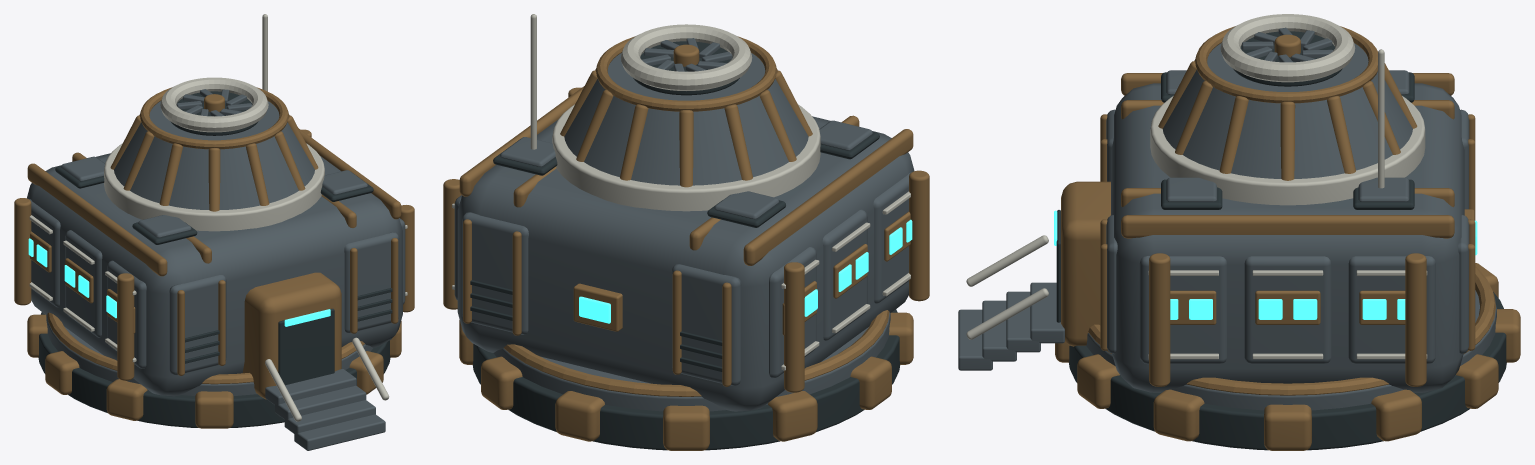
Rendered from abri.glb.
The picture shows the model from 3 angles, left to right: view 1: azimuth 30°, elevation 25°; view 2: azimuth 150°, elevation 25°; view 3: azimuth 270°, elevation 25°; orthographic projection. The views are drawn at different scales.
Visible parts, largest first — view 1: Volume habitable, Dôme central, Sas, Embase du dôme, Semelle démontable, Panneau de façade, Panneau de façade.001, Porte, Couronne de ventilation, Nervure de toiture, Plaque latérale.001, Collier du dôme (+38 smaller); view 2: Volume habitable, Dôme central, Semelle démontable, Embase du dôme, Panneau de façade.002, Panneau de façade.003, Couronne de ventilation, Châssis, Nervure de toiture, Ceinture du châssis, Plaque latérale.001, Collier du dôme (+38 smaller); view 3: Volume habitable, Dôme central, Semelle démontable, Embase du dôme, Nervure de toiture.003, Plaque latérale.004, Sas, Plaque latérale.005, Plaque latérale.003, Couronne de ventilation, Châssis, Ceinture du châssis (+38 smaller).
Part boxes in pixels (x1,y1,x2,y2): Volume habitable: (27, 153, 402, 396); Dôme central: (114, 101, 314, 209); Sas: (242, 272, 341, 399); Embase du dôme: (104, 143, 324, 231); Semelle démontable: (38, 312, 390, 427); Panneau de façade: (169, 275, 226, 375); Panneau de façade.001: (344, 232, 399, 332); Porte: (278, 308, 334, 385); Couronne de ventilation: (160, 77, 268, 132); Nervure de toiture: (27, 163, 167, 276); Plaque latérale.001: (65, 230, 102, 337); Collier du dôme: (140, 87, 288, 149); Volume habitable: (457, 116, 914, 411); Dôme central: (564, 53, 808, 185); Semelle démontable: (472, 309, 900, 450); Embase du dôme: (552, 104, 820, 211); Panneau de façade.002: (672, 264, 741, 385); Panneau de façade.003: (462, 212, 528, 334); Couronne de ventilation: (620, 24, 752, 90); Châssis: (493, 312, 890, 411); Nervure de toiture: (743, 129, 913, 265); Ceinture du châssis: (503, 310, 889, 396); Plaque latérale.001: (822, 209, 867, 340); Collier du dôme: (596, 36, 776, 111); Volume habitable: (1111, 83, 1464, 392); Dôme central: (1162, 43, 1412, 178); Semelle démontable: (1069, 292, 1506, 450); Embase du dôme: (1150, 96, 1425, 205); Nervure de toiture.003: (1121, 215, 1454, 238); Plaque latérale.004: (1244, 256, 1331, 364); Sas: (1061, 181, 1110, 346); Plaque latérale.005: (1348, 255, 1435, 364); Plaque latérale.003: (1139, 255, 1226, 364); Couronne de ventilation: (1220, 14, 1355, 82); Châssis: (1086, 290, 1496, 410); Ceinture du châssis: (1088, 266, 1495, 395).
Size of the model in its own units: 3.49 by 3 by 4.21.
